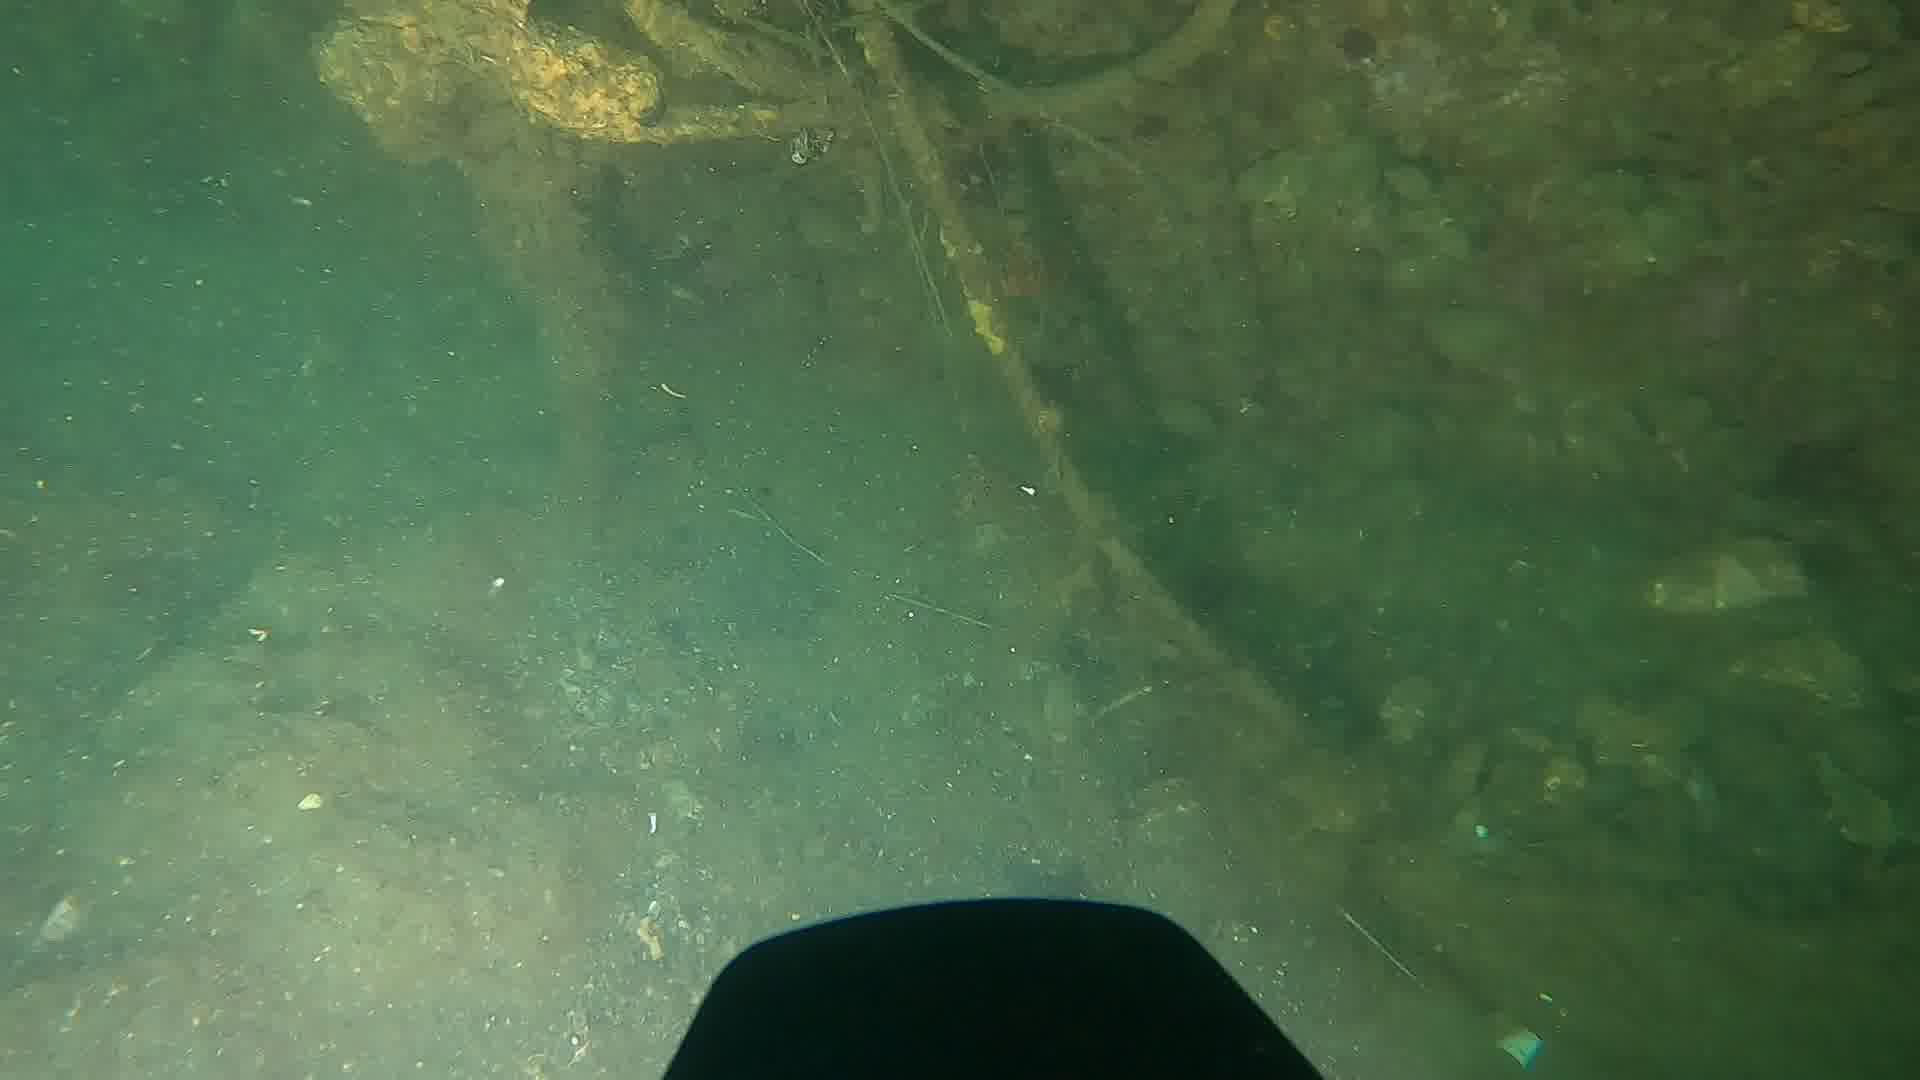bundle of ropes: (626, 0, 1241, 667)
